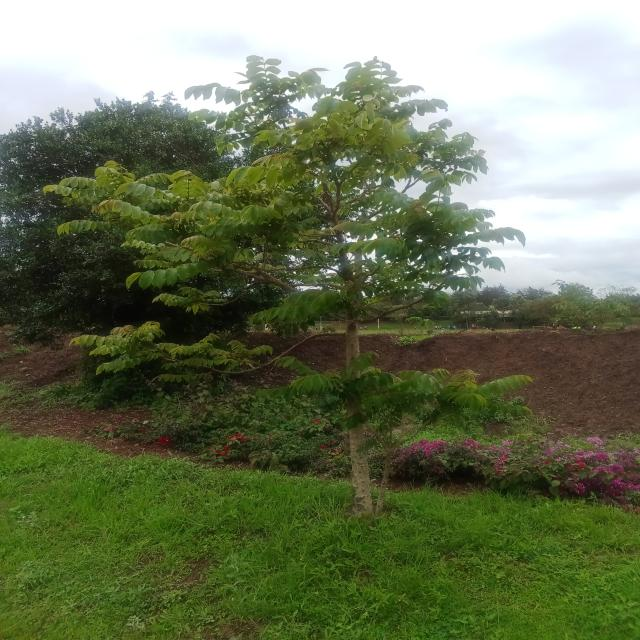Olea europea -africana-: (0, 99, 264, 339)
Polyscias Kikuyensis: (78, 46, 546, 514)
